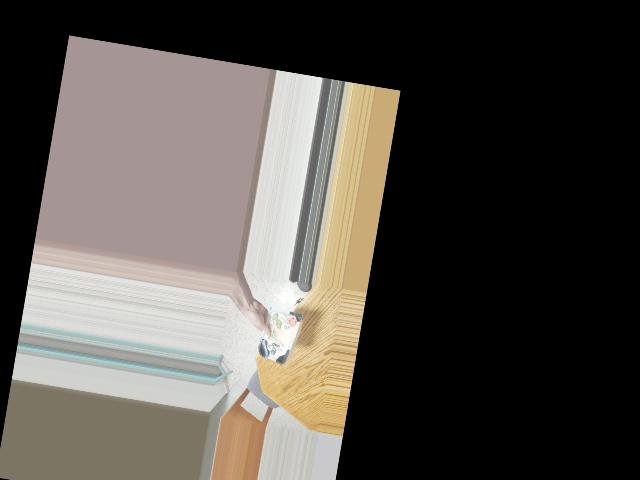cheese: (246, 301, 306, 366)
